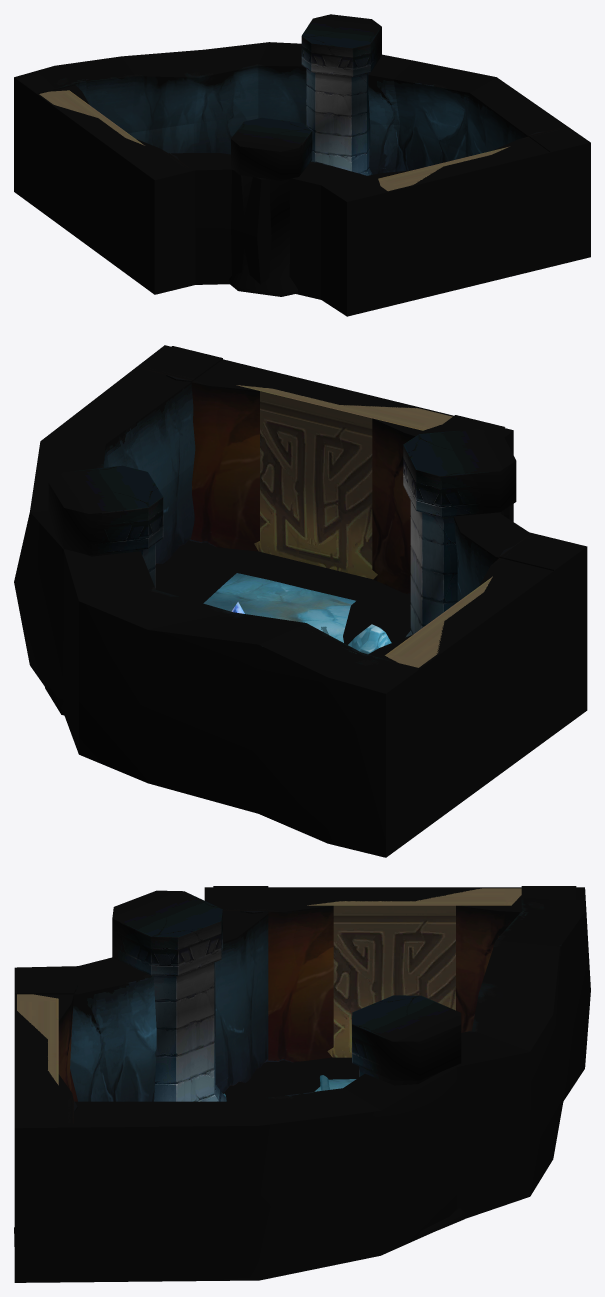
Rendered from Dungeon_033_RoadL_002.fbx.
3 renders of one model, top to bottom at view 1: azimuth 30°, elevation 25°; view 2: azimuth 150°, elevation 25°; view 3: azimuth 270°, elevation 25°, orthographic. The views are drawn at different scales.
Parts seen in each view (by area): view 1: Dan1, Dun_011_Door_002_old (×2), Dun_011_Door_002 (×2), Dungeon_033_Pillar_001, Dungeon_033_Pillar_001 (2), Dun_011_Door_003_WarpRoom (×2); view 2: Dan1, Dun_011_Door_002_old (×2), Dun_011_Door_003_WarpRoom (×2), Dun_011_Door_002 (×2), Dungeon_033_Pillar_001 (2), Dungeon_033_Pillar_001, Dun_011_Door_002_shadow, Dan2, Dan1_shadow, Dungeon_011_Object_013; view 3: Dan1, Dun_011_Door_002_old (×2), Dun_011_Door_003_WarpRoom (×2), Dungeon_033_Pillar_001 (2), Dungeon_033_Pillar_001, Dan1_shadow, Dun_011_Door_002_shadow, Dun_011_Door_002 (×2).
Boxes of the visible parts, box(x1,y1,x2,y2) form: Dan1: box(14, 42, 590, 316); Dun_011_Door_002_old (×2): box(17, 73, 584, 305); Dun_011_Door_002 (×2): box(37, 81, 583, 306); Dungeon_033_Pillar_001: box(301, 14, 381, 175); Dungeon_033_Pillar_001 (2): box(228, 117, 312, 296); Dun_011_Door_003_WarpRoom (×2): box(39, 90, 509, 191); Dan1: box(14, 345, 587, 857); Dun_011_Door_002_old (×2): box(141, 346, 582, 830); Dun_011_Door_003_WarpRoom (×2): box(236, 385, 492, 667); Dun_011_Door_002 (×2): box(143, 346, 579, 832); Dungeon_033_Pillar_001 (2): box(403, 428, 516, 637); Dungeon_033_Pillar_001: box(45, 465, 163, 715); Dun_011_Door_002_shadow: box(191, 541, 410, 605); Dan2: box(203, 573, 355, 642); Dan1_shadow: box(155, 540, 410, 644); Dungeon_011_Object_013: box(348, 624, 391, 654); Dan1: box(14, 887, 590, 1282); Dun_011_Door_002_old (×2): box(14, 886, 576, 1123); Dun_011_Door_003_WarpRoom (×2): box(17, 888, 521, 1085); Dungeon_033_Pillar_001 (2): box(112, 890, 226, 1101); Dungeon_033_Pillar_001: box(352, 995, 464, 1237); Dan1_shadow: box(14, 1061, 320, 1246); Dun_011_Door_002_shadow: box(268, 1057, 359, 1080); Dun_011_Door_002 (×2): box(14, 886, 550, 1123).
Size of what is drawn, in the model's own units: 6.75 by 2.56 by 6.83.
